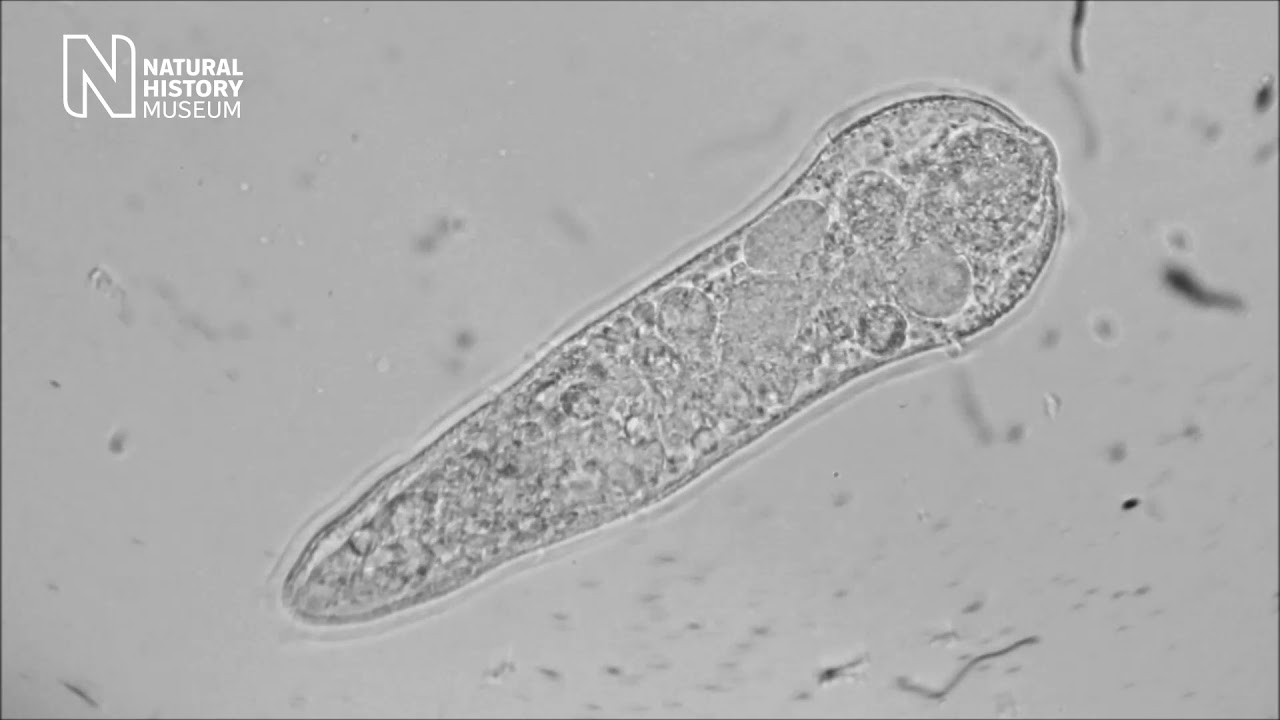Parasite: (267, 61, 1079, 641)
